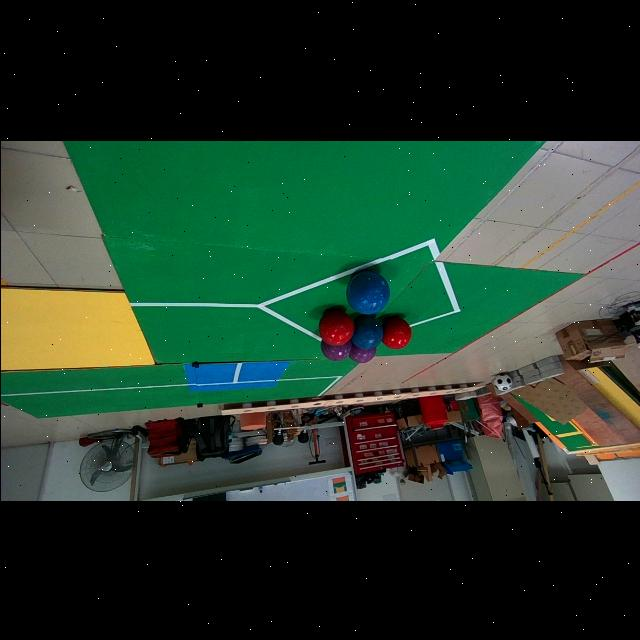B: (346, 269, 389, 313), (351, 314, 381, 348)
P: (320, 339, 350, 360), (348, 344, 376, 363)
R: (317, 308, 354, 344), (381, 316, 411, 348)
